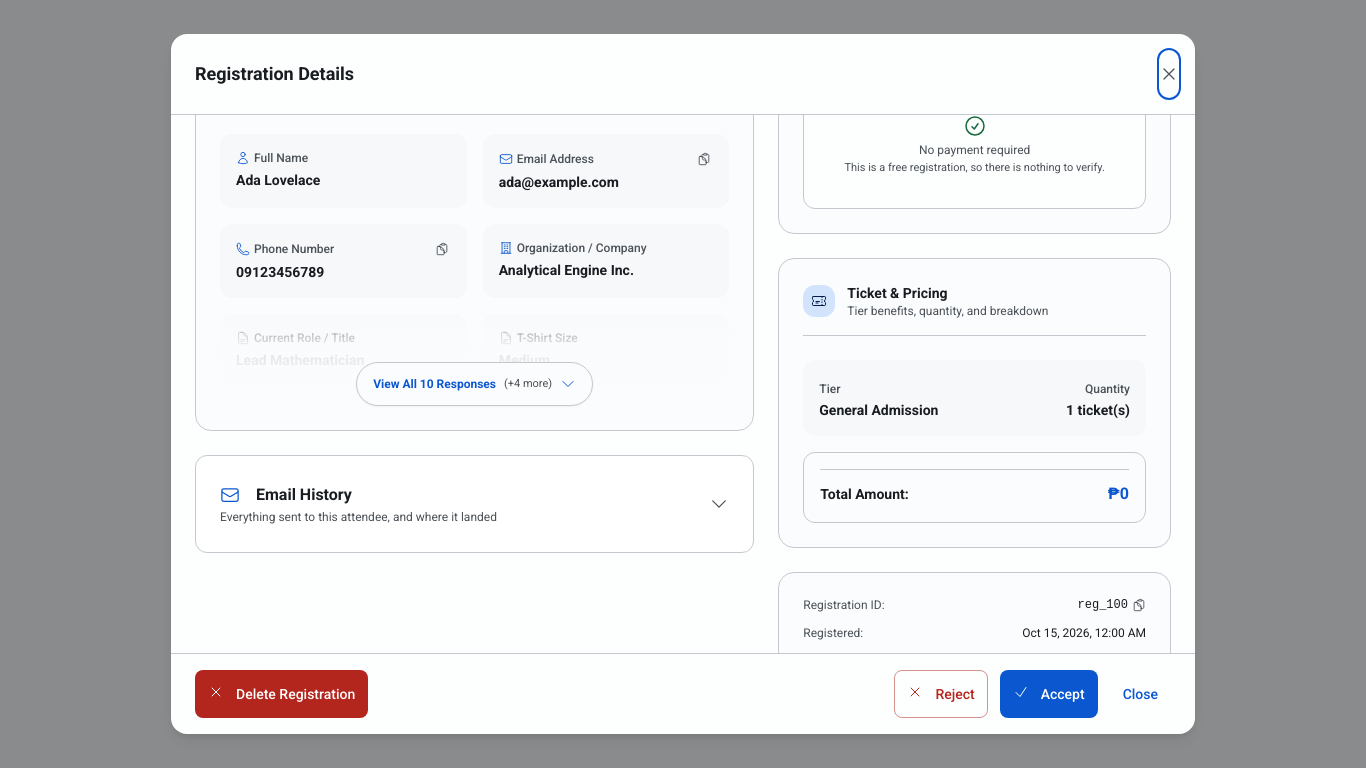
Test: RegistrationDetailsModal — Registration Responses UI/UX › collapses long forms (>6 fields) with progressive disclosure toggle
(page scrolled)
Check: the text "Full Name" is shown, box x1=254 y1=150 x2=308 y2=166
Check: the text "T-Shirt Size" is shown, box x1=517 y1=330 x2=578 y2=346
# Click to expand
Step 1. Click the button "View All 10 Responses (+4 more)" → (475, 384), box x1=356 y1=362 x2=593 y2=406
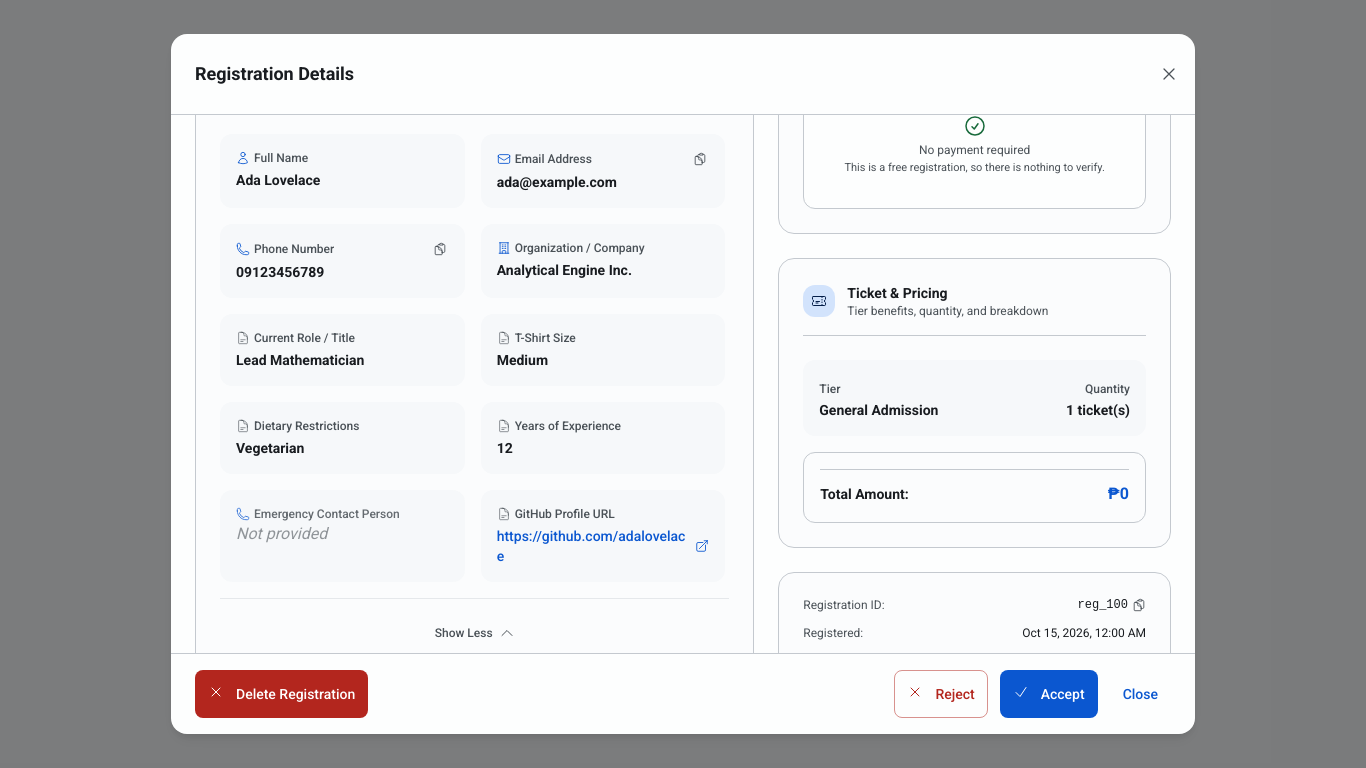
Check: the text "Dietary Restrictions" is shown, box x1=254 y1=418 x2=359 y2=434
Check: the text "GitHub Profile URL" is shown, box x1=515 y1=506 x2=615 y2=522
Check: the button "Show Less" is shown
# Click Show Less
Step 2. Click the button "Show Less" → (475, 633), box x1=421 y1=611 x2=529 y2=655
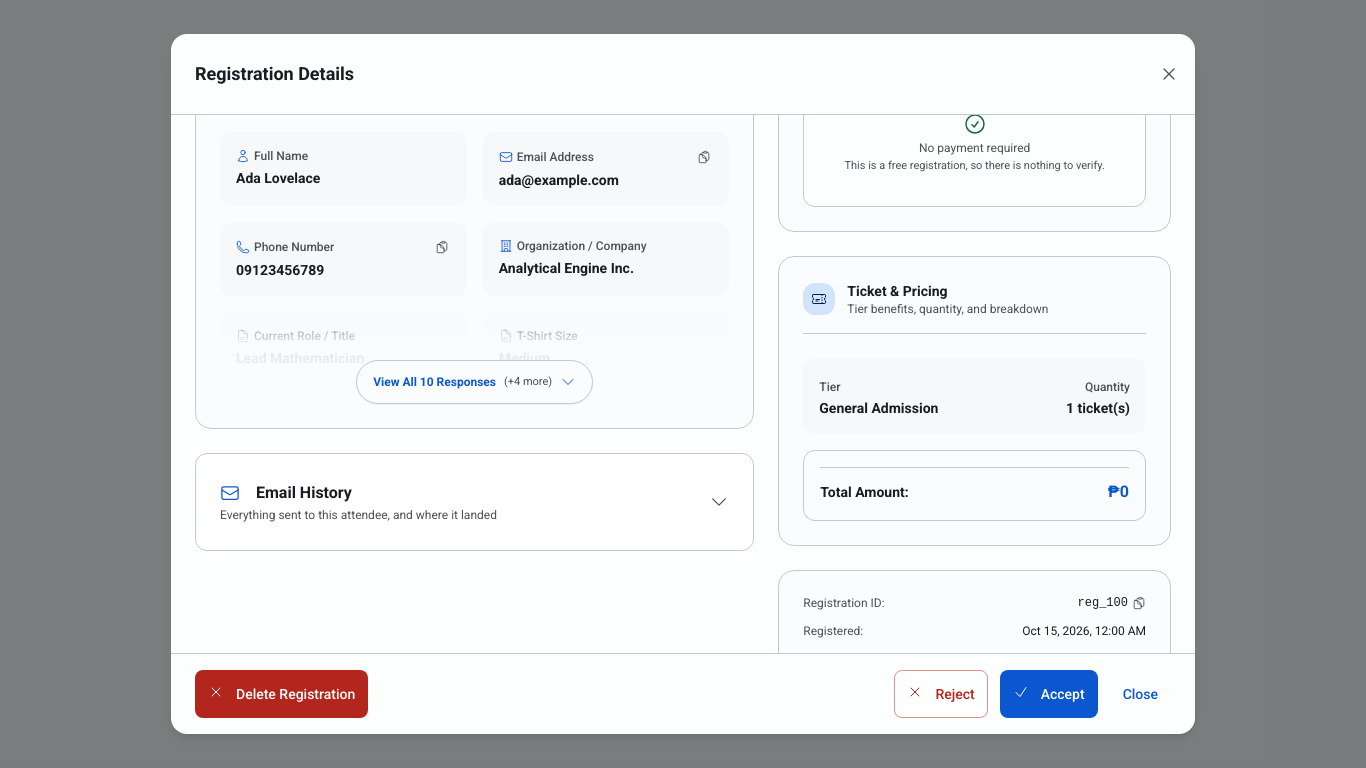
Check: the text "Dietary Restrictions" is gone
